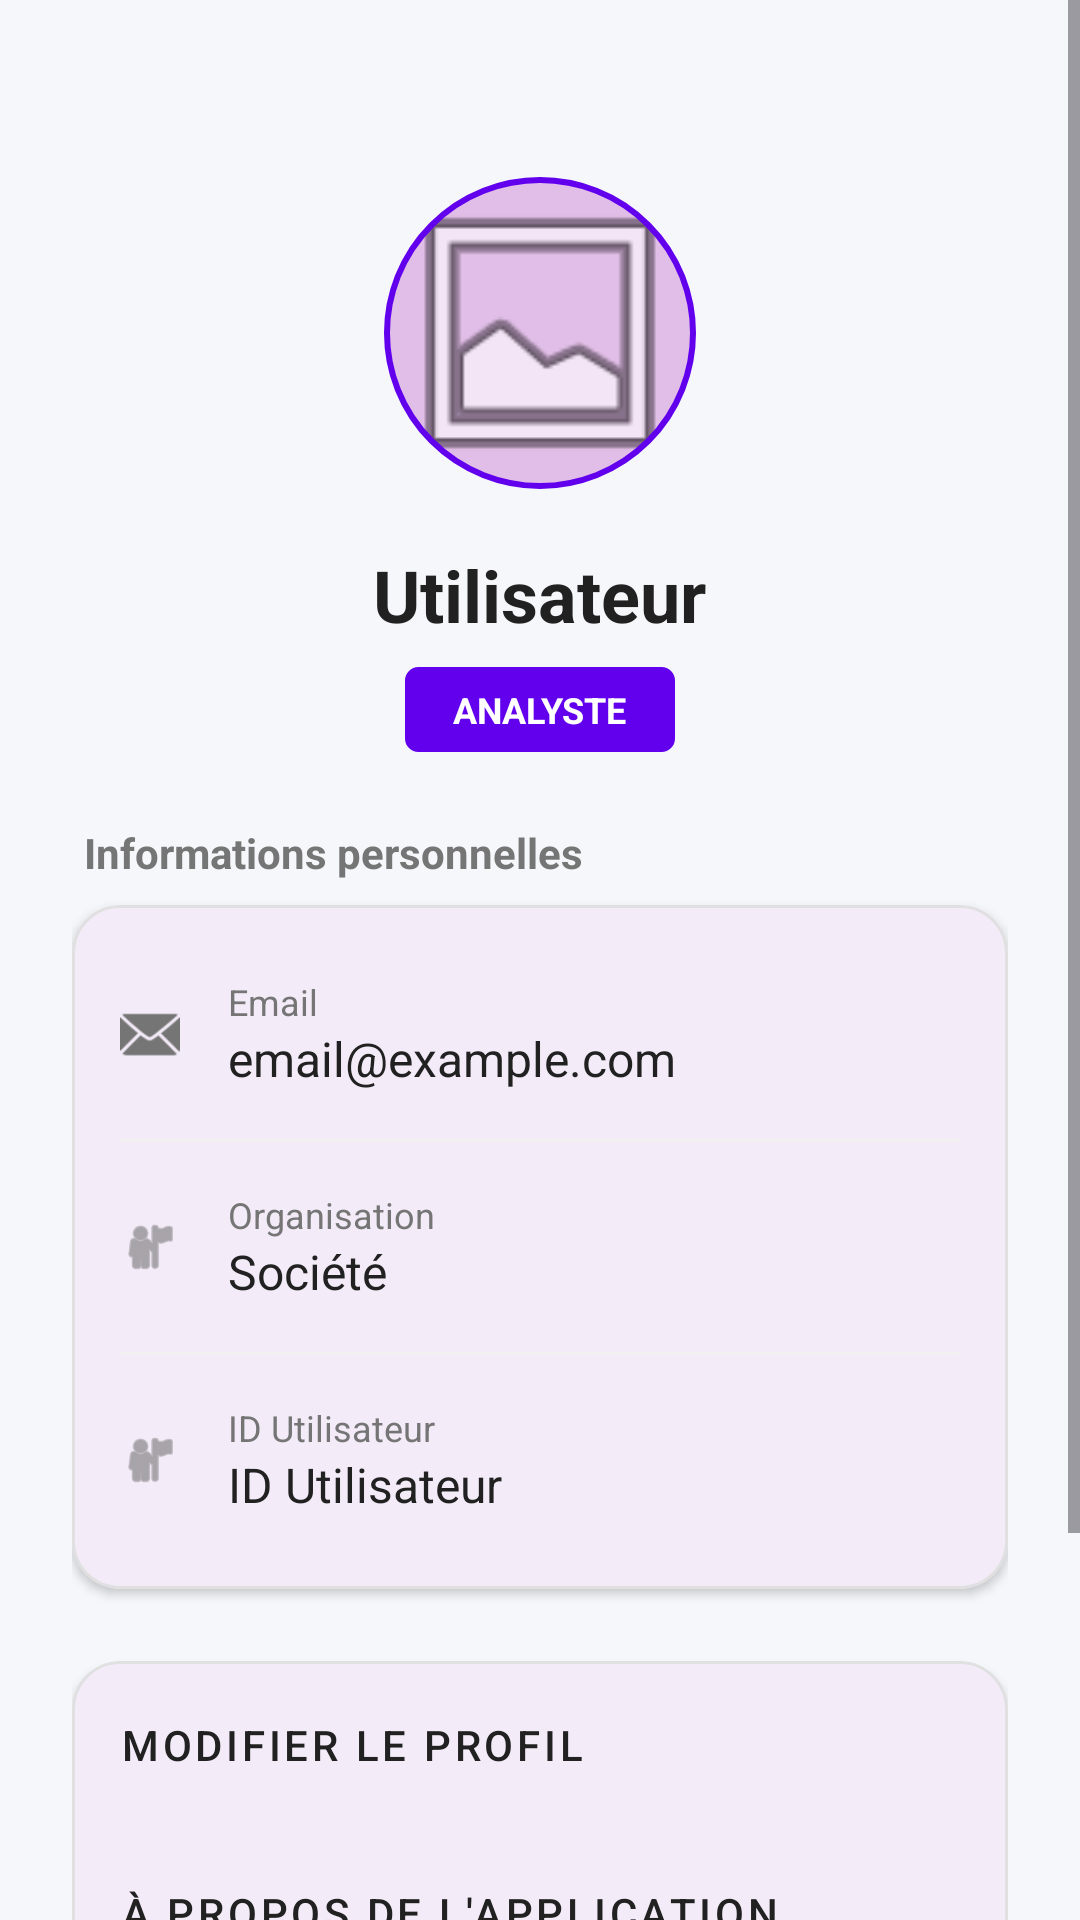

Screen size 1080w x 1920h. Icon name, then its center in pixels as (x=x, y=y):
gallery: (x=540, y=333)
